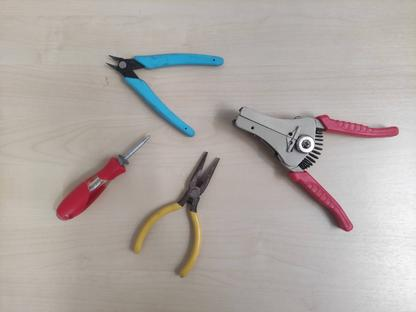Screwdriver: (54, 132, 154, 222)
